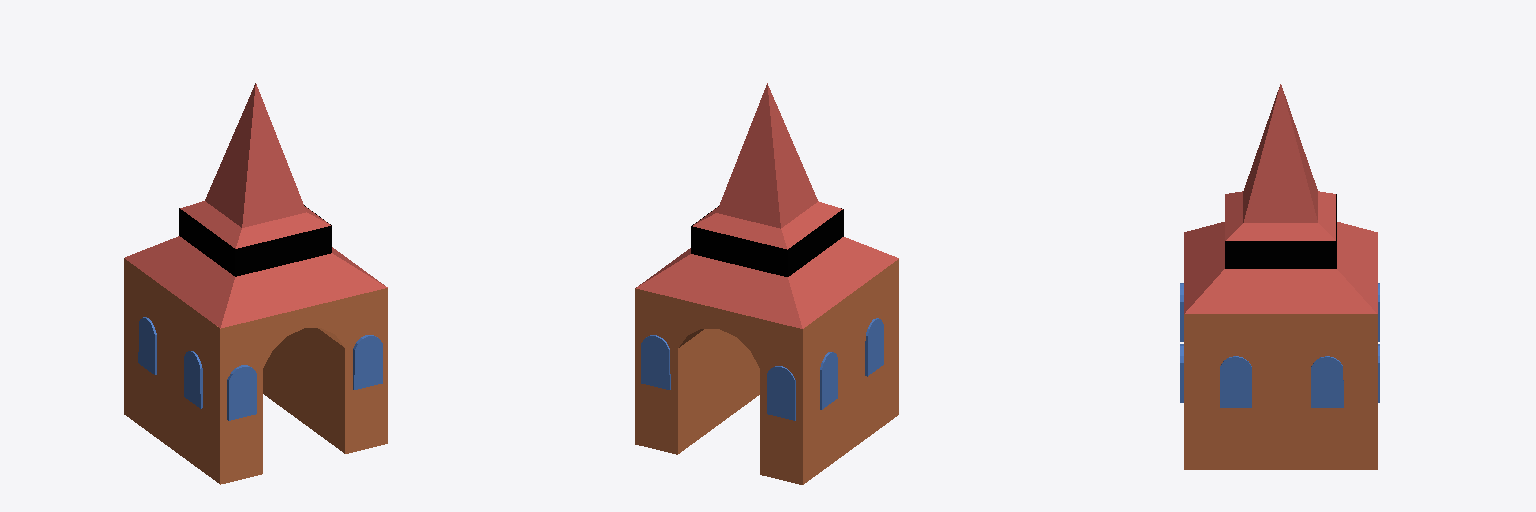
The model's file is entrance.obj.
The picture shows the model from 3 angles: view 1: azimuth 30°, elevation 25°; view 2: azimuth 150°, elevation 25°; view 3: azimuth 270°, elevation 25°; orthographic projection.
Parts seen in each view (by area): view 1: buildingMain_Cube.001, roof_Cube.002, roofPoint_Cube.005, rideName_Cube.003, roofMid_Cube.004, window_Cylinder.001, window.001_Cylinder.002, window.005_Cylinder.006, window.004_Cylinder.005; view 2: buildingMain_Cube.001, roof_Cube.002, roofPoint_Cube.005, rideName_Cube.003, roofMid_Cube.004, window.003_Cylinder.004, window.002_Cylinder.003, window.005_Cylinder.006, window.004_Cylinder.005; view 3: buildingMain_Cube.001, roof_Cube.002, roofPoint_Cube.005, rideName_Cube.003, roofMid_Cube.004, window.006_Cylinder.007, window.007_Cylinder.008.
Part boxes in pixels (bbox=[...]): buildingMain_Cube.001: bbox=[124, 258, 387, 484]; roof_Cube.002: bbox=[125, 236, 387, 328]; roofPoint_Cube.005: bbox=[205, 83, 306, 227]; rideName_Cube.003: bbox=[179, 205, 331, 276]; roofMid_Cube.004: bbox=[180, 201, 330, 248]; window_Cylinder.001: bbox=[227, 365, 256, 420]; window.001_Cylinder.002: bbox=[353, 335, 382, 389]; window.005_Cylinder.006: bbox=[184, 351, 202, 408]; window.004_Cylinder.005: bbox=[138, 317, 156, 374]; buildingMain_Cube.001: bbox=[635, 259, 898, 484]; roof_Cube.002: bbox=[636, 237, 898, 328]; roofPoint_Cube.005: bbox=[716, 83, 817, 228]; rideName_Cube.003: bbox=[691, 206, 843, 276]; roofMid_Cube.004: bbox=[693, 201, 842, 249]; window.003_Cylinder.004: bbox=[641, 335, 670, 389]; window.002_Cylinder.003: bbox=[767, 366, 795, 420]; window.005_Cylinder.006: bbox=[865, 318, 883, 376]; window.004_Cylinder.005: bbox=[820, 352, 837, 409]; buildingMain_Cube.001: bbox=[1184, 314, 1377, 469]; roof_Cube.002: bbox=[1184, 222, 1377, 313]; roofPoint_Cube.005: bbox=[1243, 84, 1317, 222]; rideName_Cube.003: bbox=[1225, 194, 1336, 268]; roofMid_Cube.004: bbox=[1225, 191, 1335, 240]; window.006_Cylinder.007: bbox=[1311, 356, 1343, 407]; window.007_Cylinder.008: bbox=[1220, 356, 1251, 407].
Bounding box in the file's own units: 3.58 × 6.92 × 3.6.